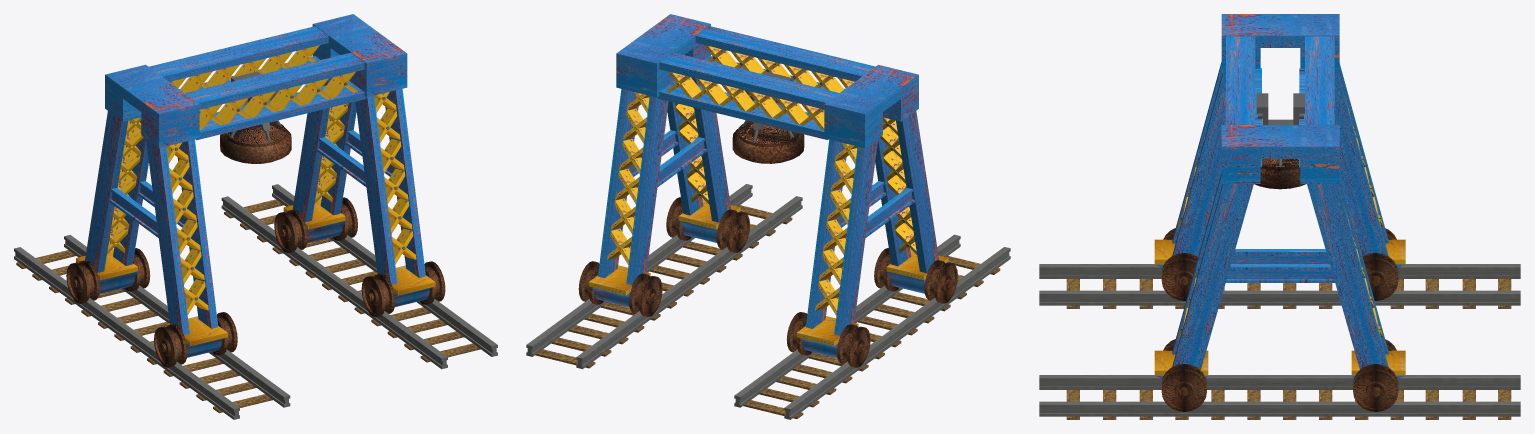
Rendered from Crane.dae.
The picture shows the model from 3 angles, left to right: view 1: azimuth 30°, elevation 25°; view 2: azimuth 150°, elevation 25°; view 3: azimuth 270°, elevation 25°; orthographic projection. The views are drawn at different scales.
Visible parts, largest first — view 1: polySurface192, polySurface235, polySurface152, polySurface195, polySurface258, polySurface239, polySurface312, polySurface297, polySurface172, polySurface153, polySurface196, polySurface215 (+22 smaller); view 2: polySurface192, polySurface235, polySurface172, polySurface215, polySurface239, polySurface258, polySurface312, polySurface297, polySurface152, polySurface216, polySurface173, polySurface195 (+22 smaller); view 3: polySurface313, polySurface298, polySurface235, polySurface312, polySurface196, polySurface216, polySurface192, polySurface173, polySurface153, polySurface297, polySurface258, polySurface239 (+14 smaller).
Part boxes in pixels (box(x1,y1,x2,y2)): polySurface192: box(105, 64, 199, 147); polySurface235: box(312, 14, 407, 97); polySurface152: box(146, 139, 189, 335); polySurface195: box(355, 95, 397, 284); polySurface258: box(185, 52, 364, 109); polySurface239: box(149, 26, 328, 81); polySurface312: box(221, 196, 447, 369); polySurface297: box(14, 247, 239, 419); polySurface172: box(85, 111, 128, 272); polySurface153: box(177, 139, 218, 328); polySurface196: box(385, 89, 425, 277); polySurface215: box(292, 77, 332, 222); polySurface192: box(824, 64, 918, 148); polySurface235: box(616, 14, 710, 97); polySurface172: box(834, 139, 878, 335); polySurface215: box(626, 96, 668, 284); polySurface239: box(659, 52, 838, 109); polySurface258: box(695, 26, 875, 81); polySurface312: box(576, 196, 802, 369); polySurface297: box(784, 247, 1010, 419); polySurface152: box(896, 111, 938, 272); polySurface216: box(598, 89, 638, 278); polySurface173: box(806, 139, 846, 328); polySurface195: box(691, 77, 731, 222); polySurface313: box(1039, 401, 1520, 416); polySurface298: box(1039, 290, 1520, 305); polySurface235: box(1221, 125, 1339, 183); polySurface312: box(1039, 375, 1520, 389); polySurface196: box(1172, 184, 1253, 369); polySurface216: box(1307, 184, 1388, 369); polySurface192: box(1221, 14, 1339, 72); polySurface173: box(1334, 73, 1388, 256); polySurface153: box(1172, 73, 1225, 256); polySurface297: box(1039, 264, 1520, 278); polySurface258: box(1225, 36, 1255, 124); polySurface239: box(1305, 36, 1334, 124).
Bounding box in the file's own units: 19.46 × 16.48 × 26.8.
